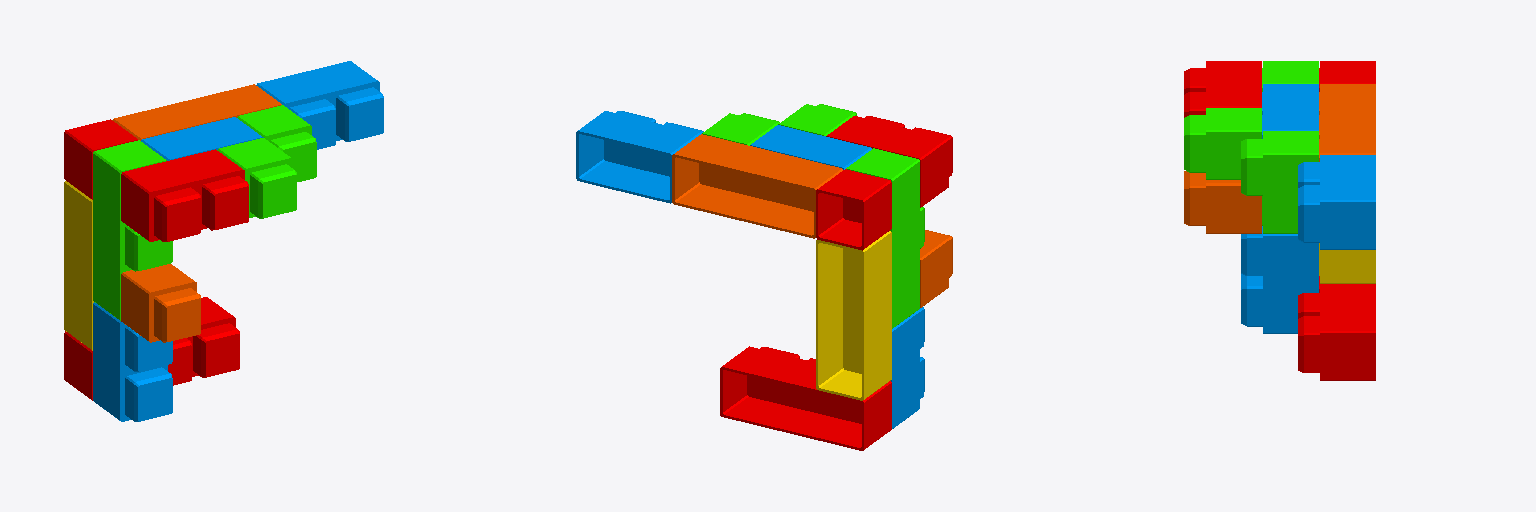
The model's file is blocks.obj.
The picture shows the model from 3 angles: view 1: azimuth 30°, elevation 25°; view 2: azimuth 150°, elevation 25°; view 3: azimuth 270°, elevation 25°; orthographic projection.
Parts seen in each view (by area): view 1: Line043_17, Line045_21, Line047_32, Line041_7, Line050_43, Line040_3, Line042_10, Line046_28, Line051_46, Rectangle014_9, Rectangle041_45, Rectangle042_47 (+19 smaller); view 2: Line045_21, Line041_7, Line049_37, Line042_10, Line043_17, Line040_3, Line047_32, Rectangle009_8, Rectangle026_25, Rectangle038_41, Line050_43, Line046_28 (+6 smaller); view 3: Line049_37, Line042_10, Line050_43, Line041_7, Line044_18, Line048_35, Line051_46, Line046_28, Line047_32, Line043_17, Line045_21, Rectangle033_34 (+10 smaller).
Part boxes in pixels (x1,y1,x2,y2): Line043_17: (93,140,163,318); Line045_21: (64,181,89,347); Line047_32: (121,149,240,239); Line041_7: (112,84,278,137); Line050_43: (93,302,118,418); Line040_3: (64,119,135,196); Line042_10: (256,61,374,102); Line046_28: (141,117,258,158); Line051_46: (121,264,192,338); Rectangle014_9: (336,87,383,141); Rectangle041_45: (125,367,172,421); Rectangle042_47: (154,288,200,342); Line045_21: (816,232,888,400); Line041_7: (672,136,839,238); Line049_37: (720,348,888,450); Line042_10: (576,113,696,203); Line043_17: (846,150,916,328); Line040_3: (816,171,888,250); Line047_32: (826,118,945,207); Rectangle009_8: (699,134,842,211); Rectangle026_25: (843,231,891,380); Rectangle038_41: (747,346,891,431); Line050_43: (891,312,916,428); Line046_28: (750,127,868,169); Line049_37: (1326,284,1375,380); Line042_10: (1326,155,1375,249); Line050_43: (1269,234,1318,333); Line041_7: (1326,84,1375,154); Line044_18: (1269,131,1318,202); Line048_35: (1212,108,1261,179); Line051_46: (1212,180,1261,233); Line046_28: (1269,84,1318,130); Line047_32: (1212,61,1261,107); Line043_17: (1269,61,1318,233); Line045_21: (1326,250,1375,283); Rectangle033_34: (1184,115,1205,172).
Size of the model in its own units: 60 by 50 by 34.6.